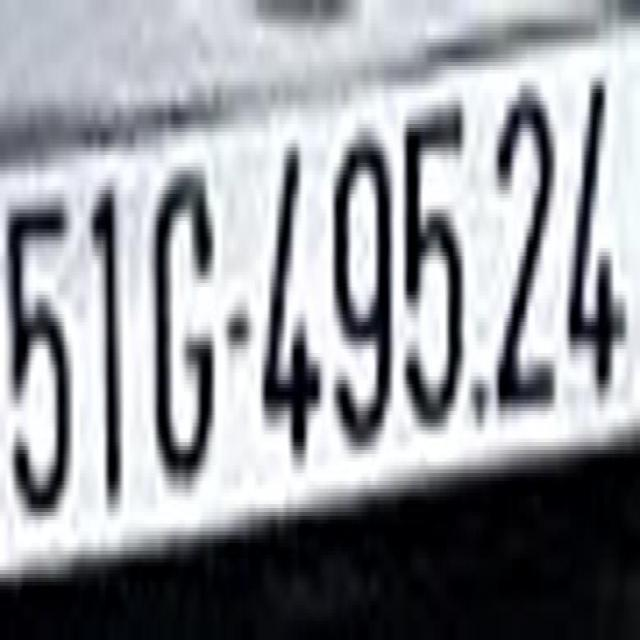1: (84, 155, 130, 508)
2: (494, 89, 558, 407)
4: (259, 124, 322, 473), (568, 35, 625, 384)
5: (5, 190, 70, 512), (402, 112, 469, 419)
9: (332, 105, 396, 465)
G: (154, 144, 219, 492)
